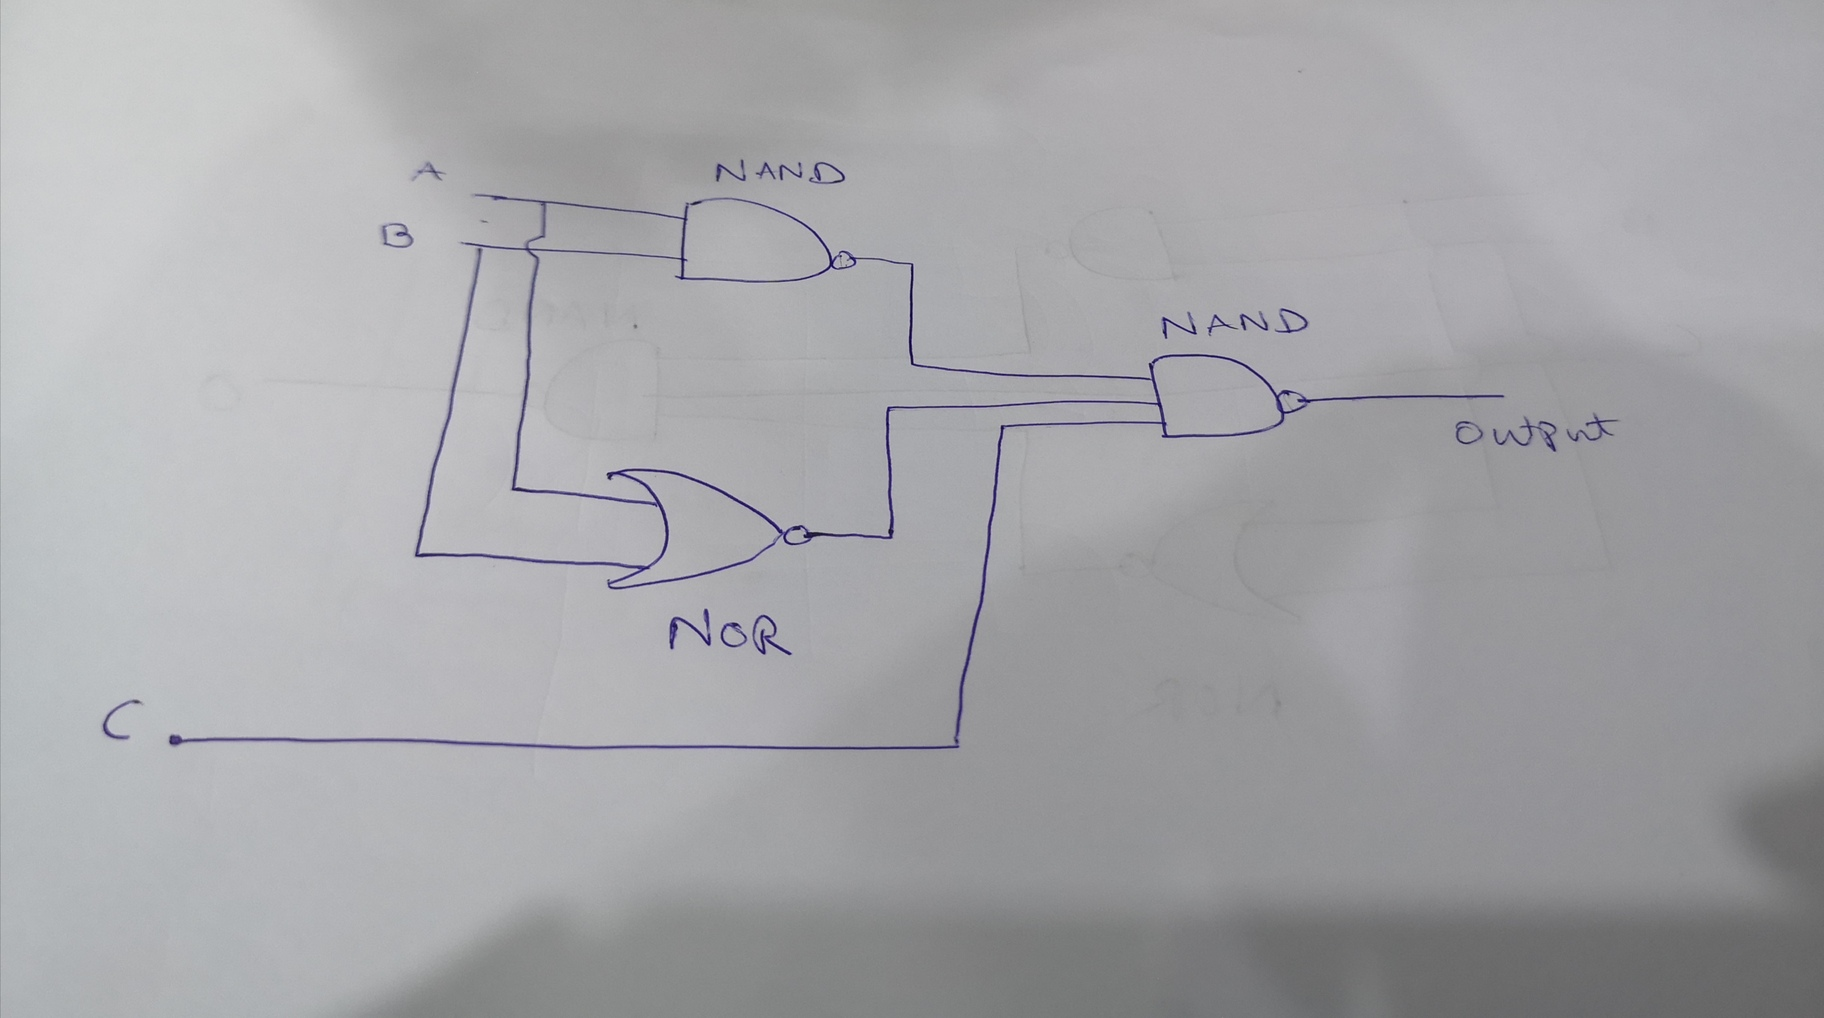crossover: (522, 232, 546, 263)
junction: (876, 520, 904, 551), (945, 734, 968, 758), (988, 414, 1015, 436), (899, 352, 923, 374), (504, 480, 524, 497), (407, 546, 426, 563), (901, 254, 920, 272), (879, 399, 896, 417), (535, 195, 552, 210), (474, 240, 490, 255)
nand: (669, 193, 863, 289), (1143, 351, 1314, 445)
nor: (599, 460, 821, 594)
terminal: (162, 729, 187, 753), (1488, 384, 1510, 406), (451, 235, 472, 250), (467, 188, 484, 202)
text: (1452, 407, 1622, 455), (666, 609, 792, 662), (1158, 306, 1315, 341), (708, 155, 851, 189), (100, 692, 149, 743), (375, 220, 417, 248), (411, 159, 448, 183)
